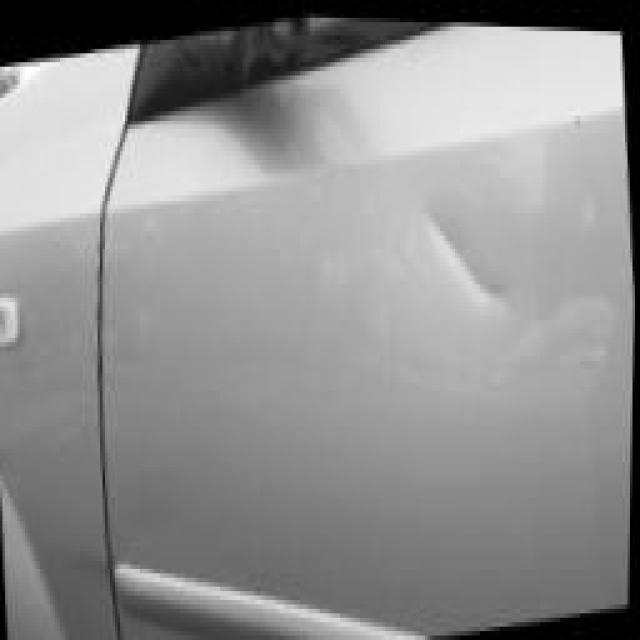Door: (385, 138, 531, 366)
